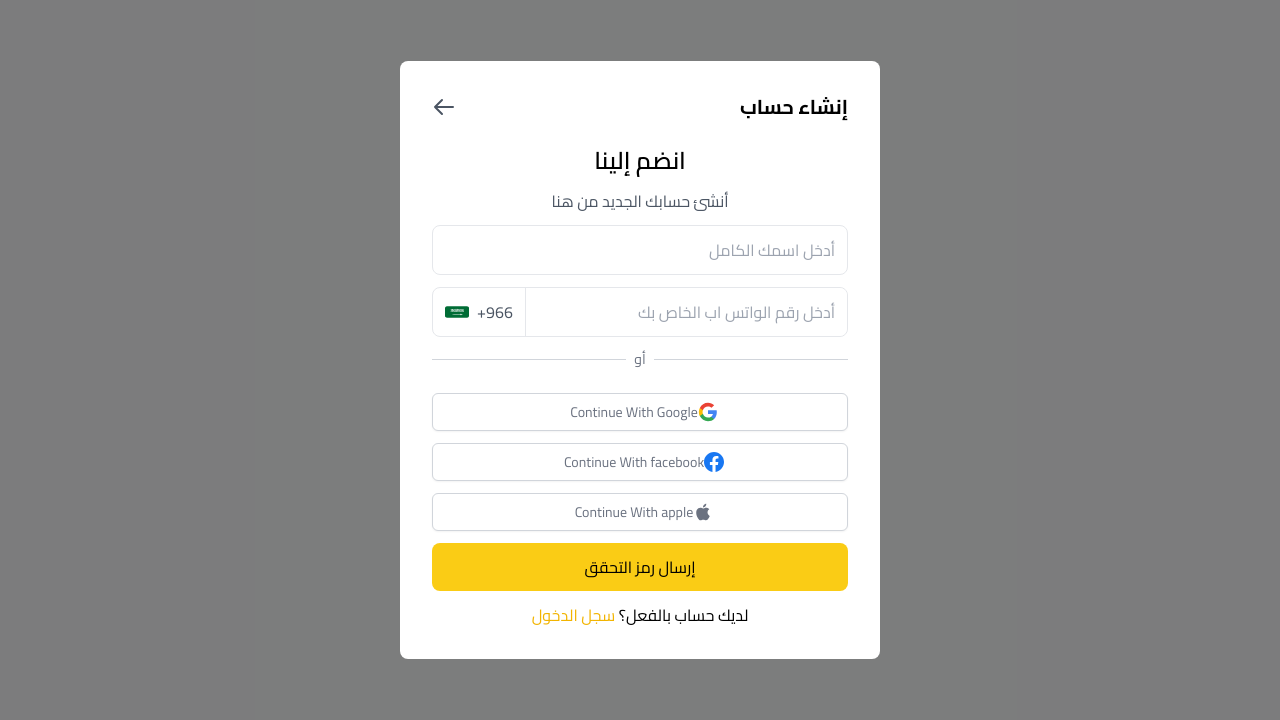
Scenario: RegisterModal › handles countdown timer
// Switch to verification screen
Click the button "إرسال رمز التحقق".
click(640, 567)  # box [432,543,848,591]
Wait 1000 ms
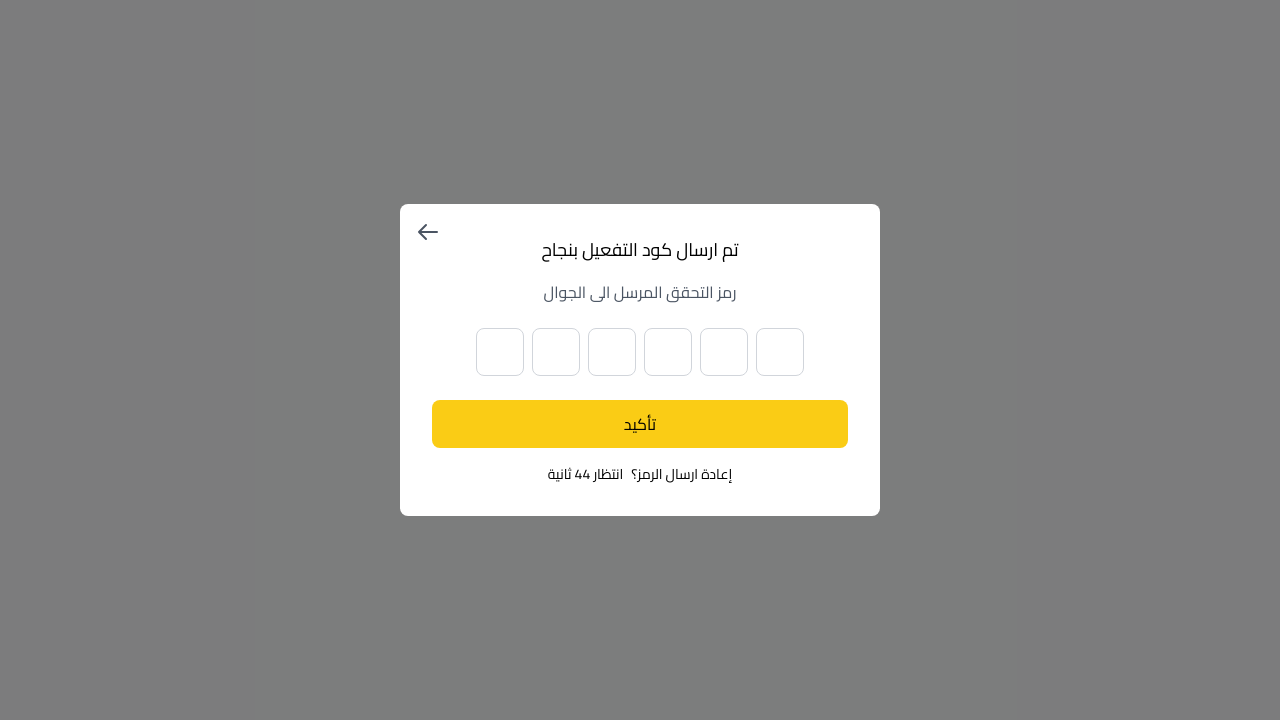
Expected: the text "انتظار 44 ثانية" is shown, [548,464,623,484]
